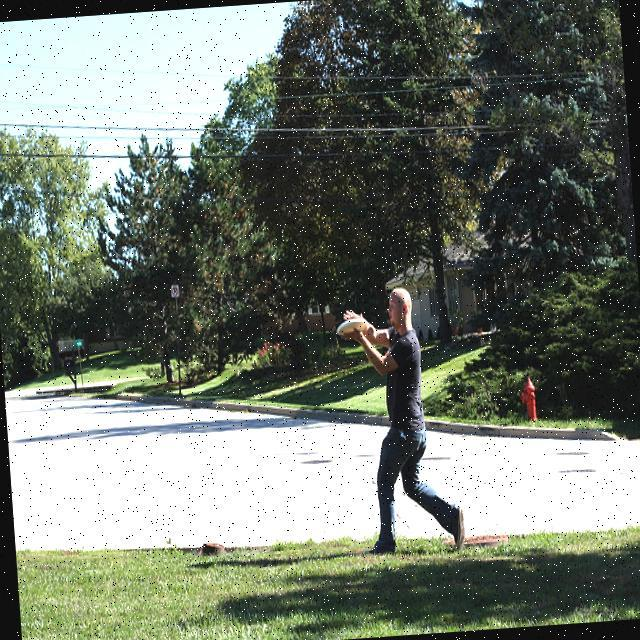fire_hydrant: (518, 376, 536, 421)
